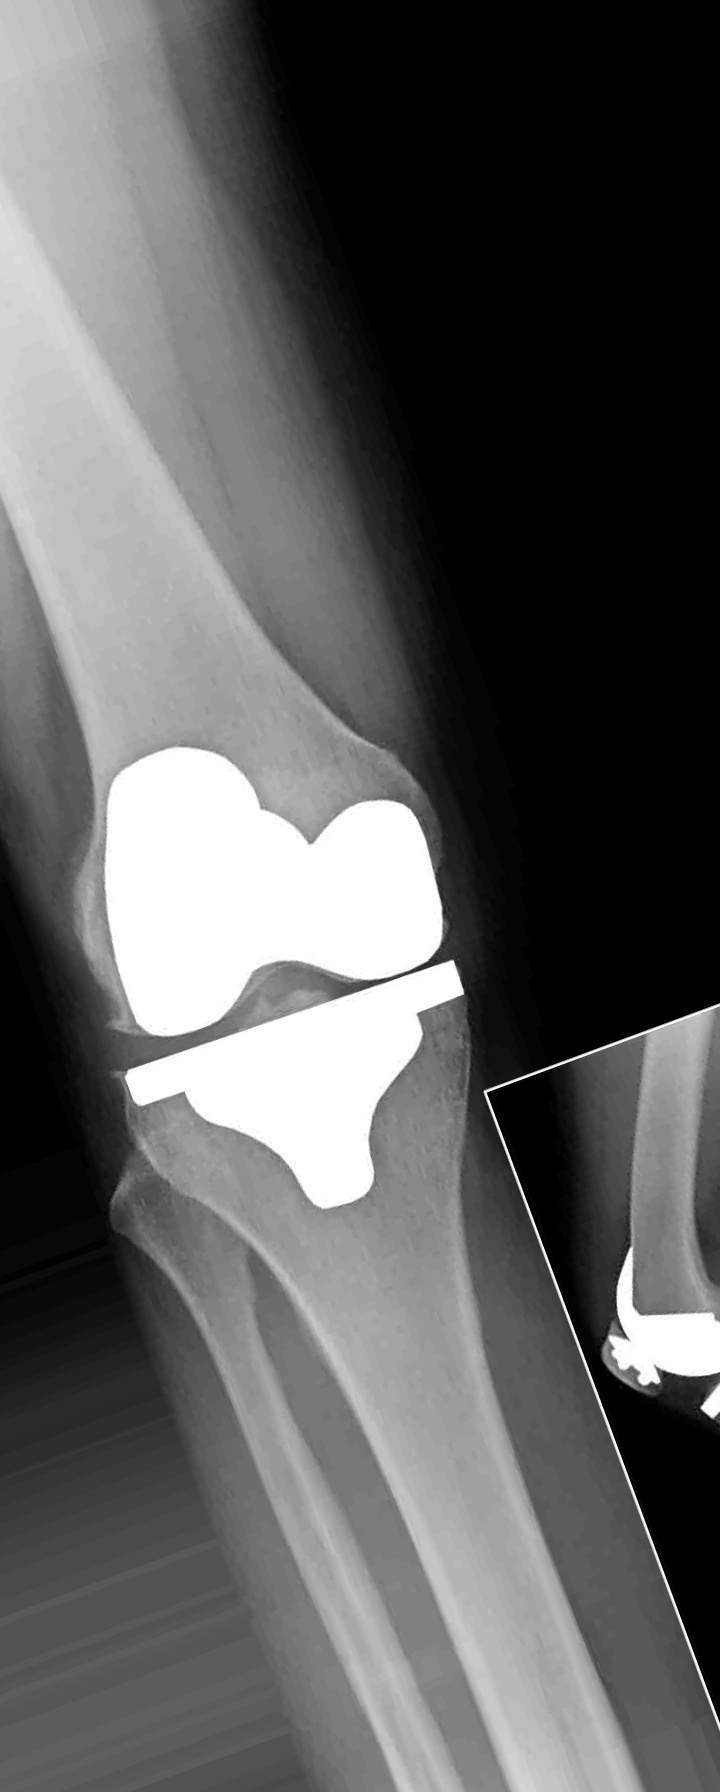Knee-TriathlonTritanium-Stryker: (94, 731, 470, 1211), (601, 1224, 720, 1445)
